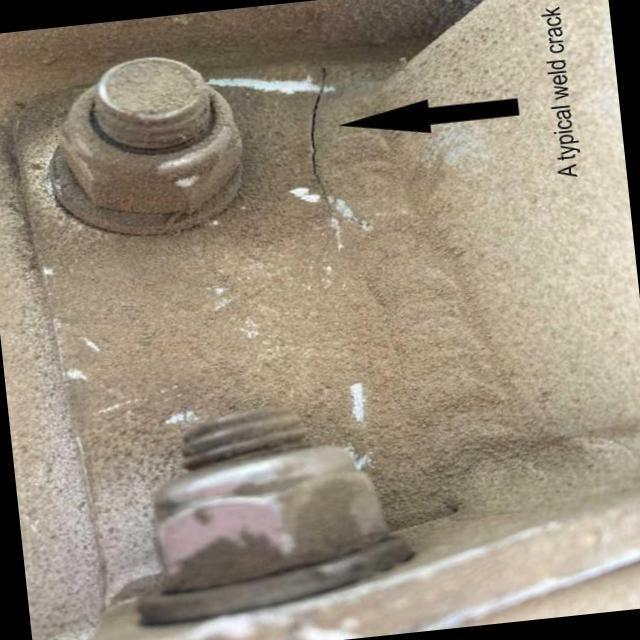defect: (305, 61, 339, 237)
